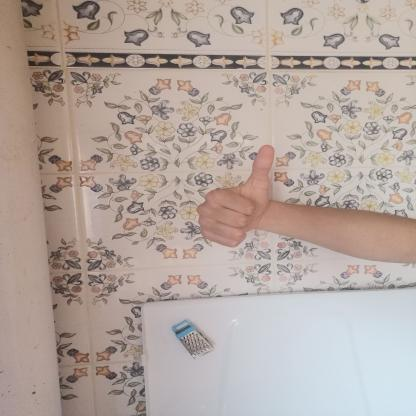ALIF: (187, 137, 295, 251)
